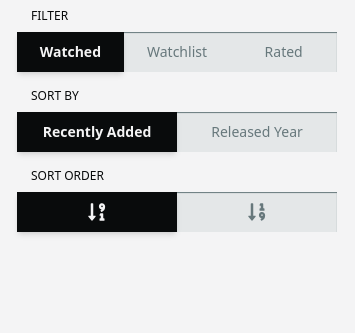
MyFilmsControls — rating toggle › reveals the Rating toggle when 'Rated' is clicked
Step 1. Click the button "Rated" → (284, 52), box [230, 32, 337, 72]
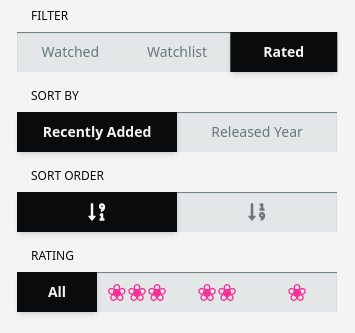
Now the text "Rating" is shown, box [31, 247, 74, 264]
